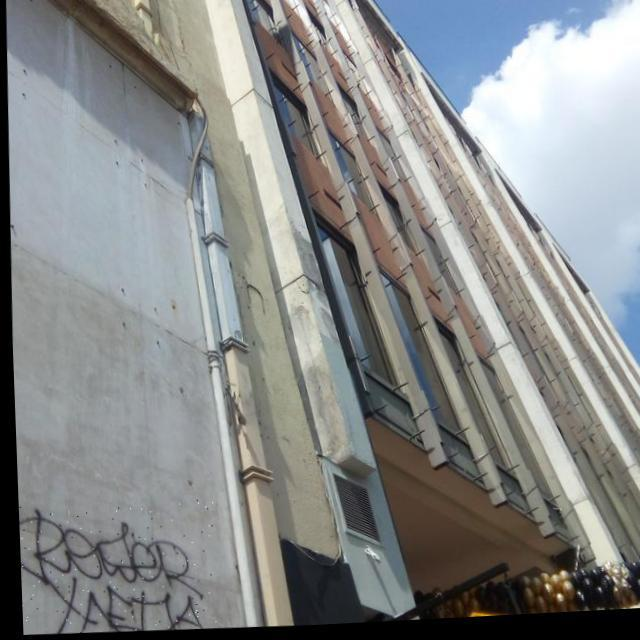-: (15, 497, 216, 638)
